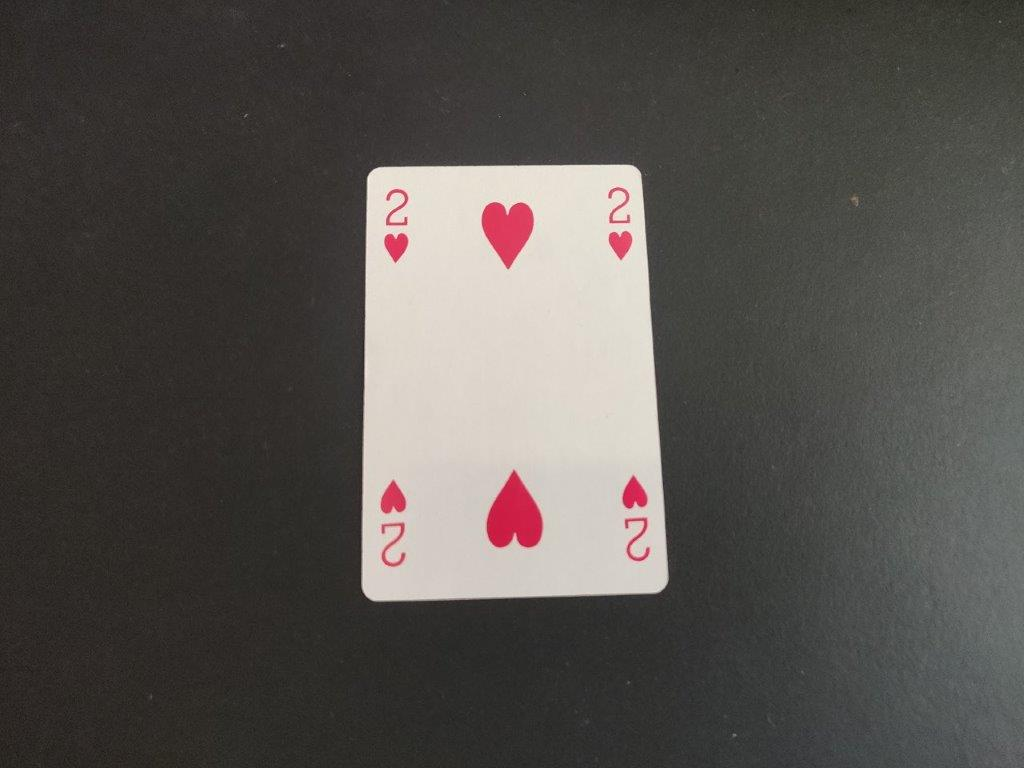2H: (380, 183, 419, 269), (601, 181, 640, 264)
